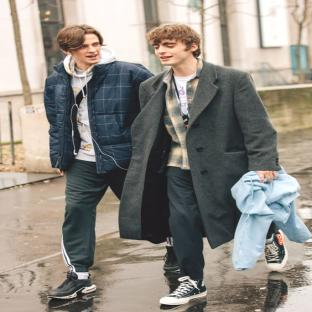Human: (44, 24, 281, 305), (265, 222, 288, 271)
